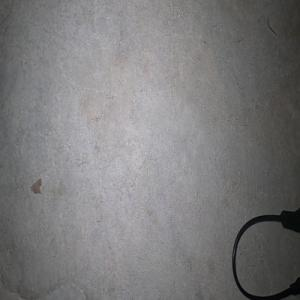Wire: (232, 206, 300, 300)
